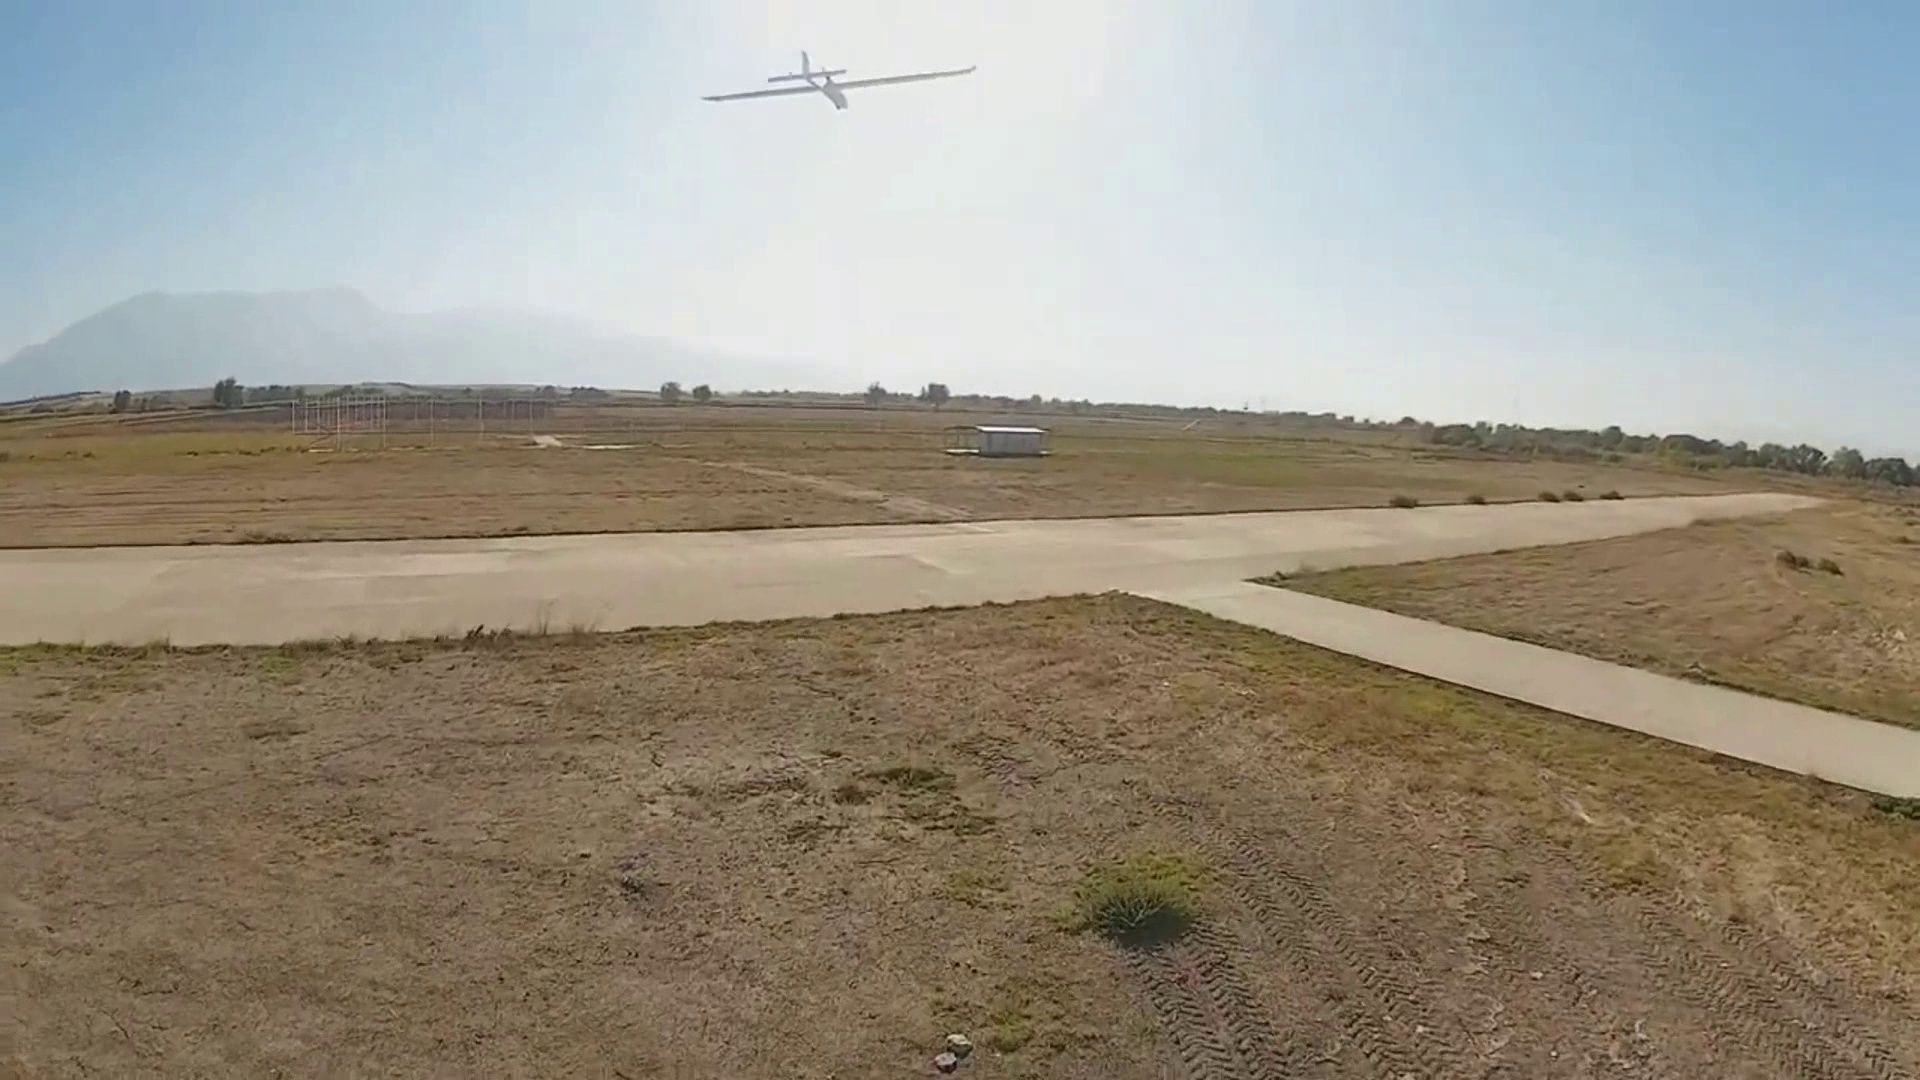airplane: (701, 50, 981, 112)
